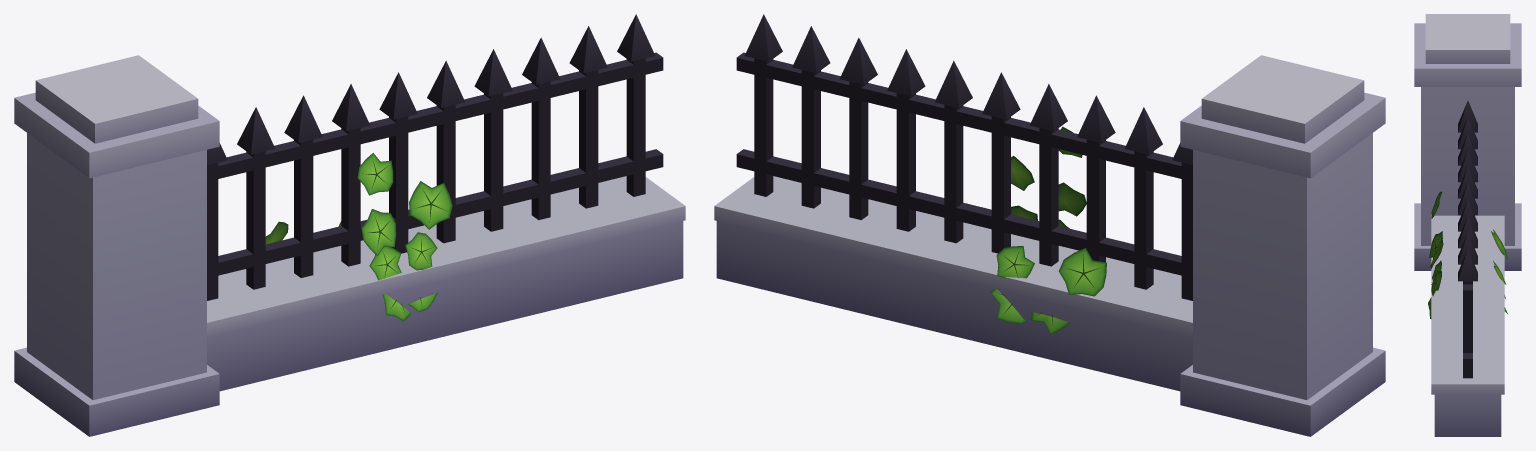
Rendered from cel_fence.glb.
The picture shows the model from 3 angles, left to right: view 1: azimuth 30°, elevation 25°; view 2: azimuth 150°, elevation 25°; view 3: azimuth 270°, elevation 25°; orthographic projection. The views are drawn at different scales.
Visible parts, largest first — view 1: fence_stone, fence_vine; view 2: fence_stone, fence_vine; view 3: fence_stone, fence_vine.
Part boxes in pixels (x1=…): fence_stone: x1=14, y1=14, x2=685, y2=436; fence_vine: x1=265, y1=153, x2=452, y2=321; fence_stone: x1=714, y1=14, x2=1385, y2=436; fence_vine: x1=990, y1=126, x2=1106, y2=334; fence_stone: x1=1414, y1=14, x2=1521, y2=436; fence_vine: x1=1428, y1=191, x2=1507, y2=318.
Bounding box in the file's own units: 4.48 × 2.14 × 0.96.
